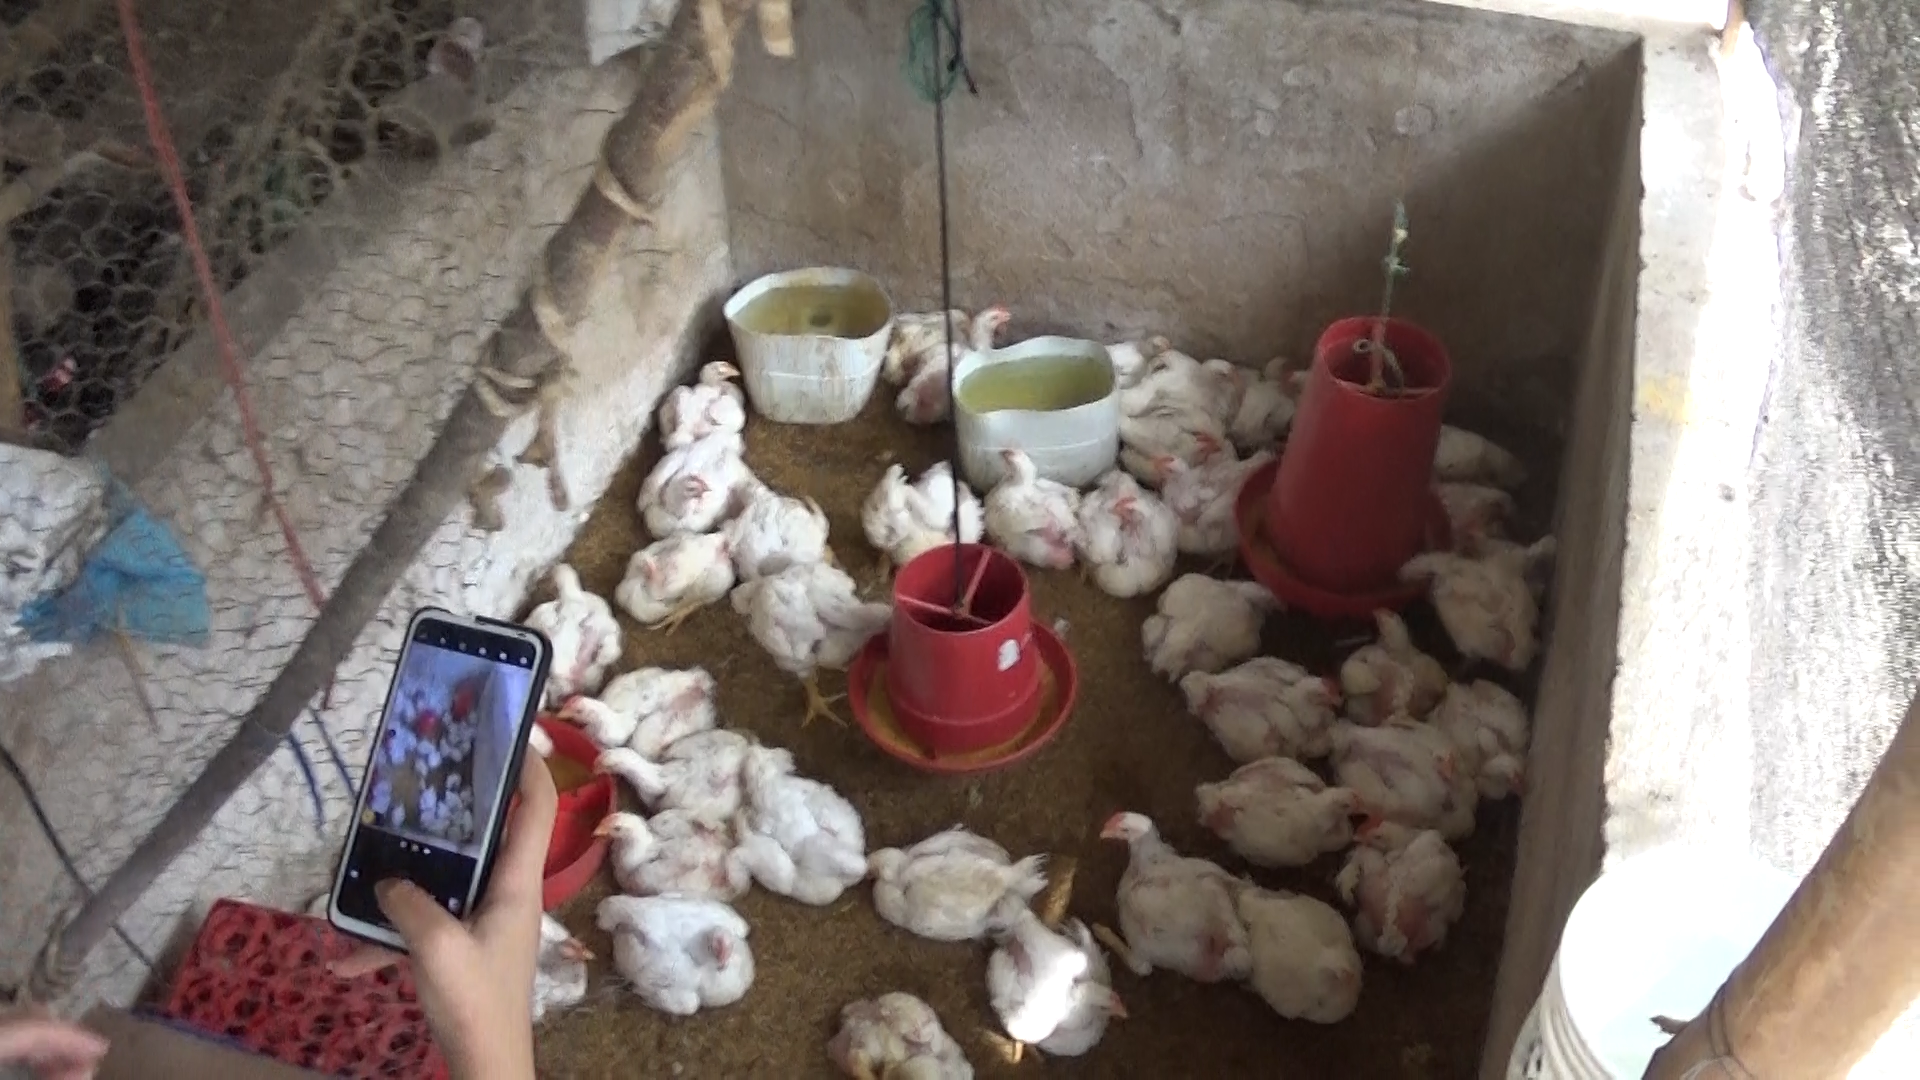Pollos: (1085, 798, 1249, 996), (727, 563, 905, 737), (960, 884, 1133, 1058), (847, 814, 1054, 951), (717, 736, 877, 906), (1304, 702, 1491, 841), (1323, 810, 1468, 969), (1187, 749, 1373, 872), (592, 885, 765, 1013), (1167, 644, 1338, 771), (1396, 539, 1551, 673), (550, 665, 728, 777), (1408, 662, 1544, 807), (1226, 884, 1361, 1025), (584, 800, 745, 910), (1129, 572, 1287, 683), (509, 555, 632, 691), (622, 429, 748, 560), (584, 733, 766, 822), (1065, 460, 1174, 604), (899, 298, 1018, 425), (820, 985, 977, 1080), (1335, 597, 1448, 725), (857, 454, 982, 566), (973, 442, 1083, 570), (1150, 447, 1269, 564), (615, 522, 731, 634), (713, 476, 841, 572), (647, 351, 756, 454), (520, 902, 604, 1030), (1101, 402, 1234, 483), (1218, 345, 1317, 436), (873, 309, 975, 384), (1125, 353, 1247, 415), (1102, 324, 1174, 382)
